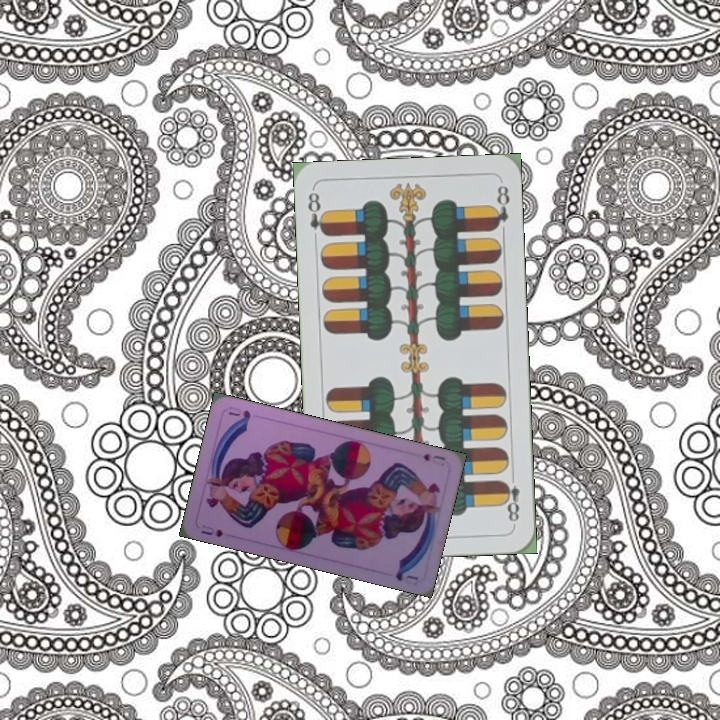E8: (303, 188, 330, 239), (499, 469, 522, 528)
SU: (197, 521, 226, 540), (419, 449, 448, 463)
